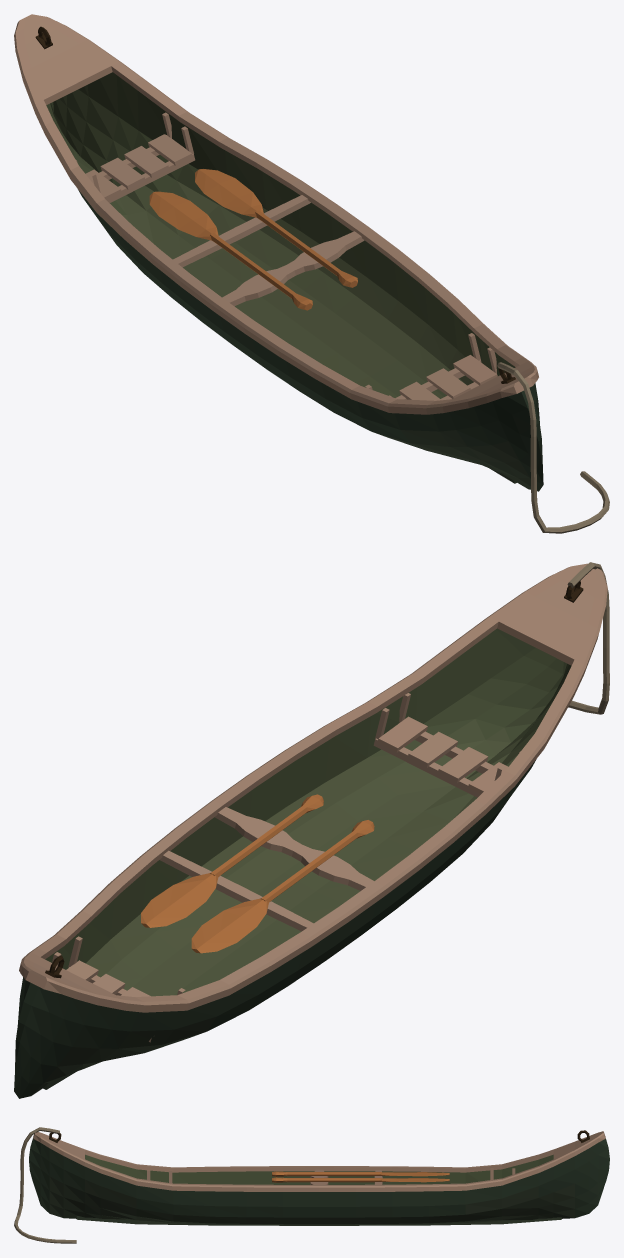
File: canoe_a.glb
3 renders of one model, top to bottom at view 1: azimuth 30°, elevation 25°; view 2: azimuth 150°, elevation 25°; view 3: azimuth 270°, elevation 25°, orthographic. The views are drawn at different scales.
Visible parts, largest first — view 1: hull, paddle-2-mesh, paddle-1-mesh; view 2: hull, paddle-2-mesh, paddle-1-mesh; view 3: hull, paddle-2-mesh, paddle-1-mesh.
Part boxes in pixels (left/top/right/bottom): hull: left=14, top=14, right=609, bottom=533; paddle-2-mesh: left=149, top=191, right=312, bottom=310; paddle-1-mesh: left=195, top=169, right=357, bottom=287; hull: left=14, top=562, right=609, bottom=1098; paddle-2-mesh: left=191, top=820, right=374, bottom=953; paddle-1-mesh: left=141, top=794, right=323, bottom=927; hull: left=14, top=1127, right=609, bottom=1243; paddle-2-mesh: left=272, top=1171, right=449, bottom=1176; paddle-1-mesh: left=272, top=1177, right=449, bottom=1182.
Size of the model in its own units: 0.9061 by 0.8242 by 5.04.
